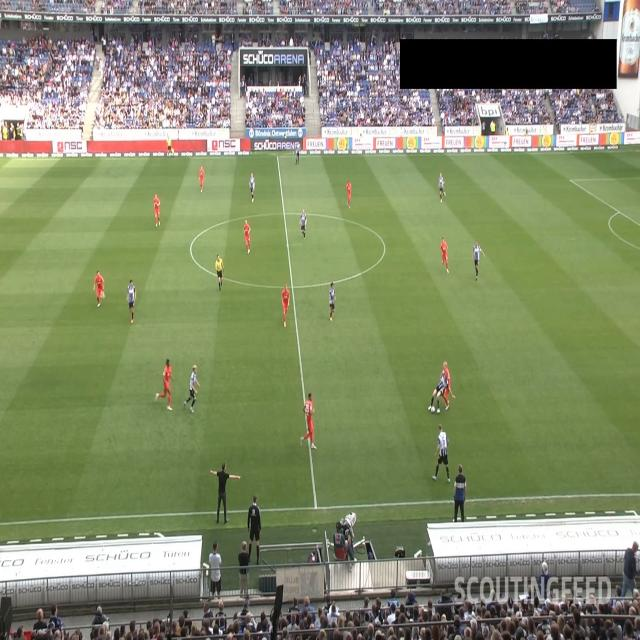ball: (430, 404, 436, 414)
